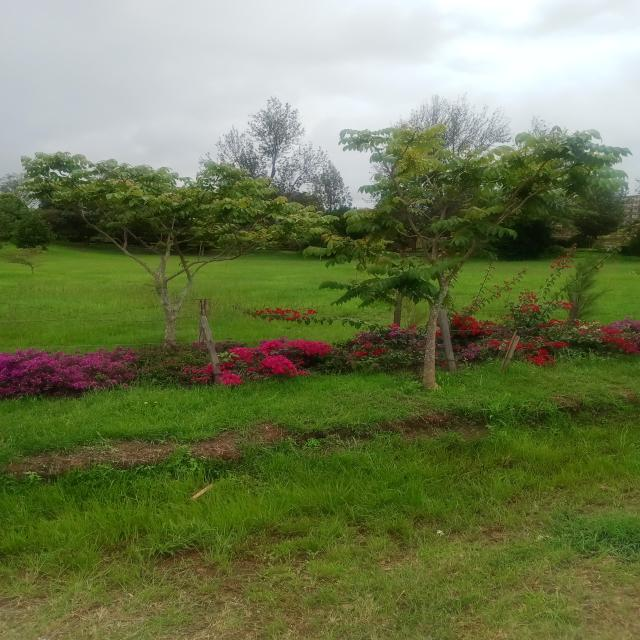Polyscias Kikuyensis: (308, 110, 640, 394), (21, 127, 335, 401)
